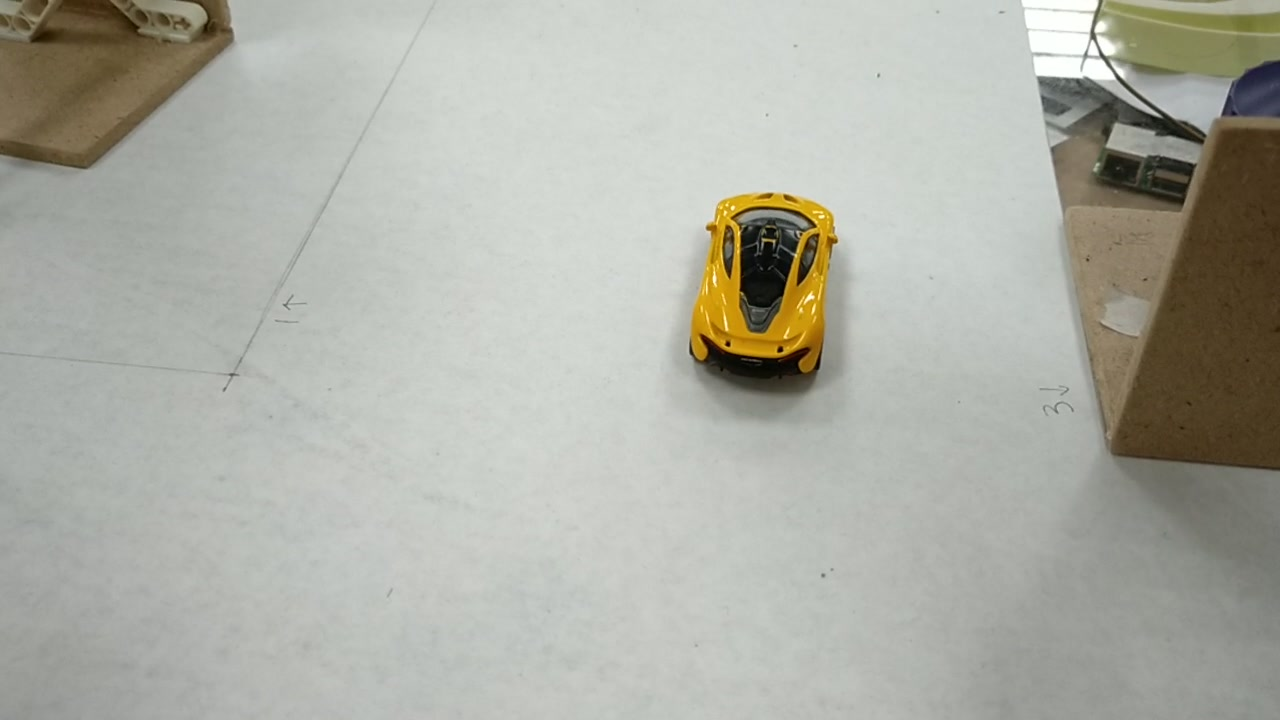car: (683, 198, 848, 370)
